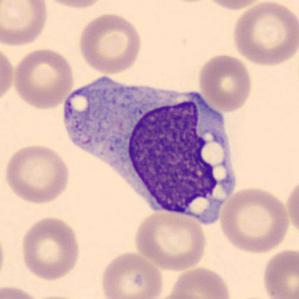Monocyte: (59, 74, 243, 224)
RBC: (218, 184, 292, 254), (132, 209, 209, 271), (230, 0, 298, 68), (76, 10, 144, 75), (2, 142, 72, 205), (18, 214, 82, 282), (10, 46, 76, 111), (196, 52, 254, 113), (98, 249, 165, 299), (0, 0, 50, 48), (169, 265, 233, 299), (260, 247, 298, 299), (0, 42, 15, 106), (285, 176, 299, 237), (200, 0, 271, 12), (38, 0, 110, 10), (0, 283, 45, 299), (150, 290, 211, 299), (0, 226, 7, 287)
